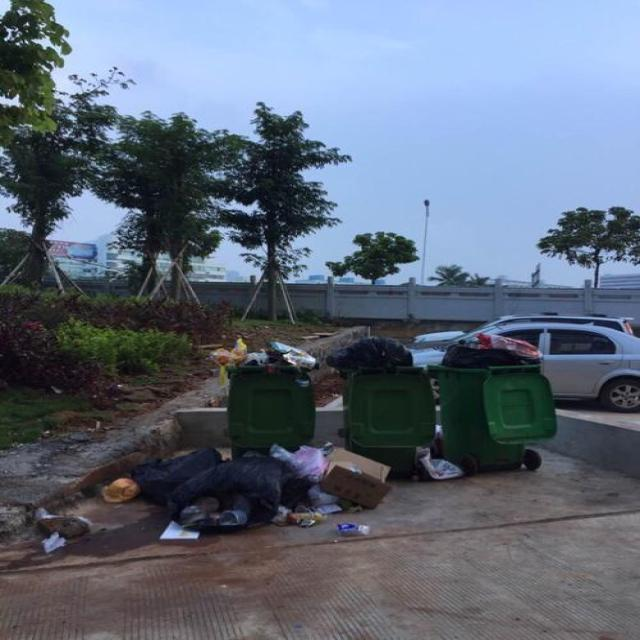garbage: (96, 440, 388, 540), (412, 444, 465, 479)
overflow: (426, 332, 558, 472), (323, 338, 432, 477), (209, 337, 311, 453)
